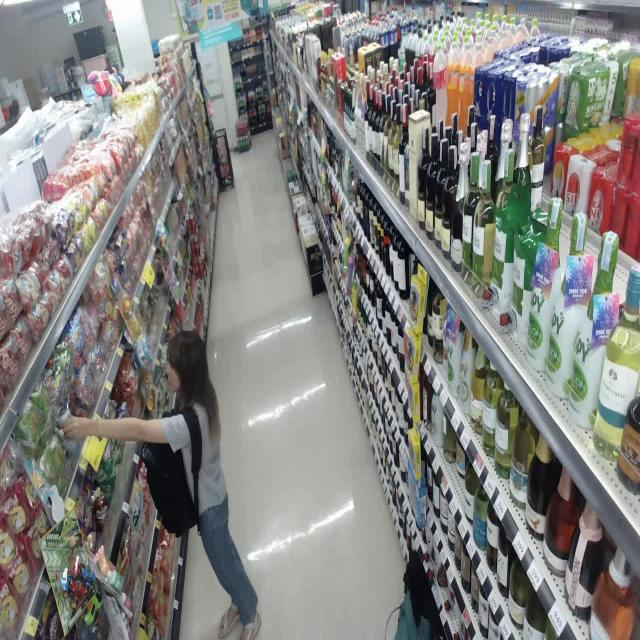pickup: (52, 321, 264, 640)
